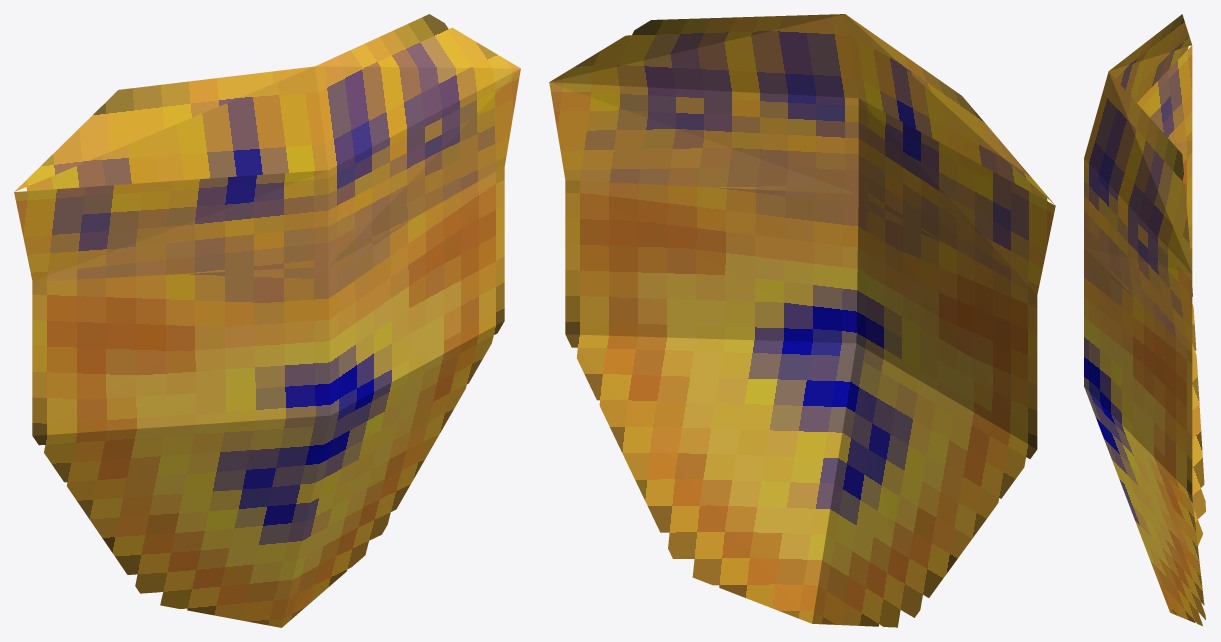
3 views of the same model, side by side, from view 1: azimuth 30°, elevation 25°; view 2: azimuth 150°, elevation 25°; view 3: azimuth 270°, elevation 25° (orthographic). The views are drawn at different scales.
Parts seen in each view (by area): view 1: Slim_obj_026; view 2: Slim_obj_026; view 3: Slim_obj_026.
Part boxes in pixels (left/top/right/bottom): Slim_obj_026: left=14, top=14, right=520, bottom=627; Slim_obj_026: left=549, top=14, right=1055, bottom=627; Slim_obj_026: left=1084, top=14, right=1205, bottom=625.
Size of the model in its own units: 0.4297 by 0.4746 by 0.0977.
1 material, 1 textured.
